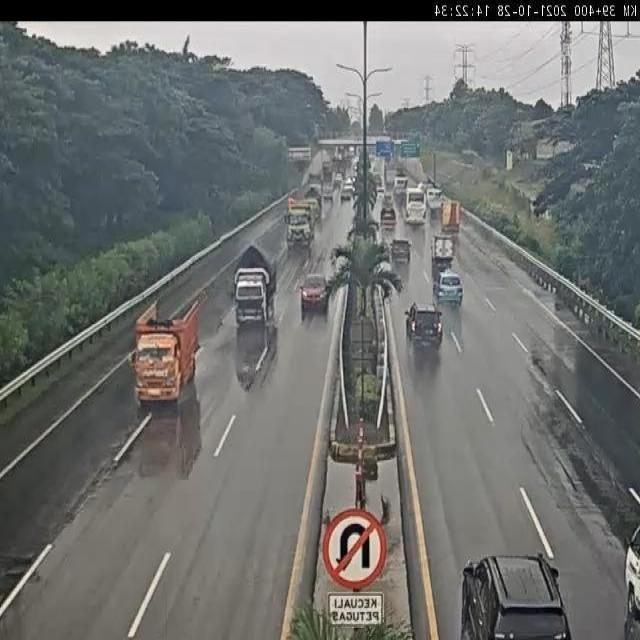Bus: (405, 185, 427, 228)
Car: (459, 554, 572, 640), (622, 523, 640, 632), (405, 304, 444, 348), (296, 270, 332, 314), (432, 267, 466, 307), (391, 237, 412, 267), (426, 188, 443, 218), (341, 179, 354, 201), (376, 182, 385, 200), (417, 181, 427, 194)
Truck: (116, 301, 212, 420), (230, 233, 280, 332), (285, 205, 314, 252), (431, 236, 455, 276), (440, 200, 461, 237), (380, 205, 396, 232)
Van: (393, 176, 409, 200)
